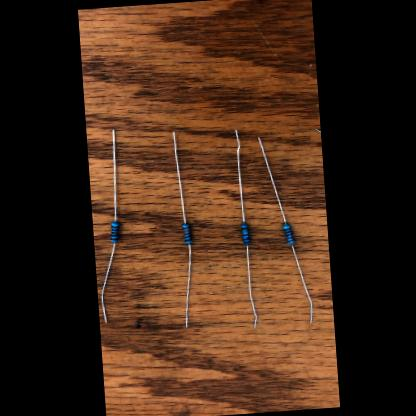resistor: (282, 223, 294, 244), (240, 222, 250, 244), (110, 220, 120, 242), (182, 222, 192, 243)
wire: (256, 135, 286, 224), (98, 242, 121, 322), (290, 242, 312, 322), (180, 243, 196, 326), (172, 131, 186, 223), (106, 128, 120, 220), (233, 128, 244, 224), (245, 244, 256, 326)
